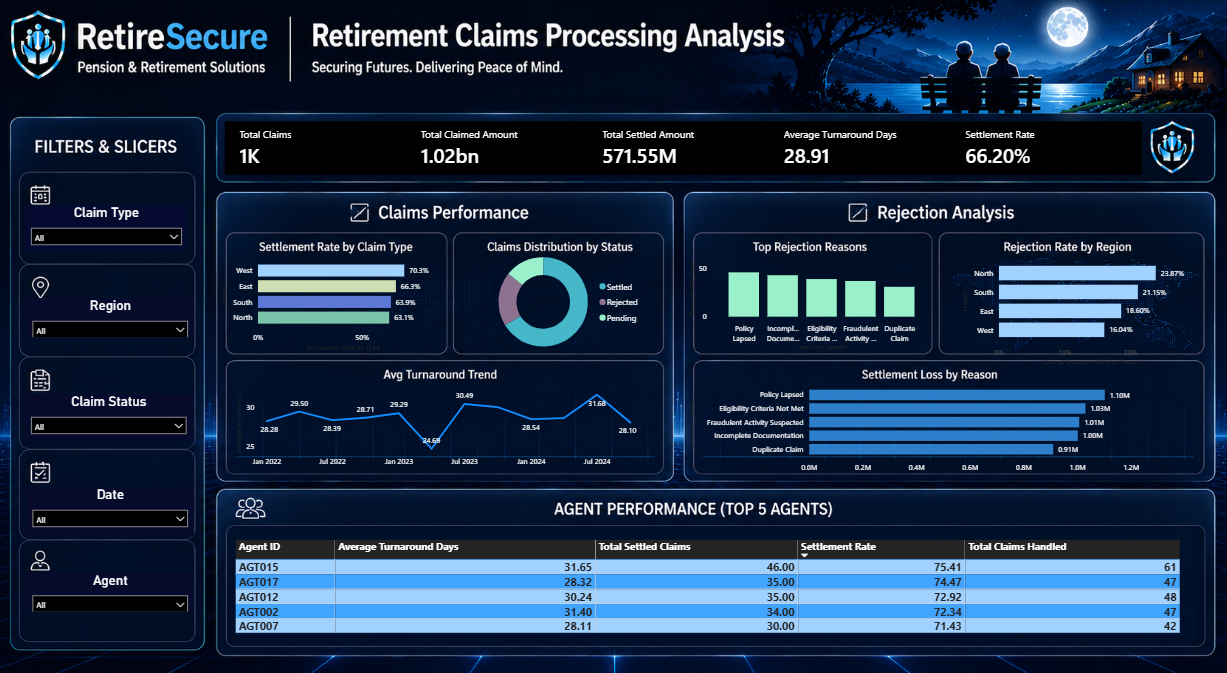

The page's visual inventory and layout, read from the dashboard file:
{"tool":"powerbi","page":{"name":"Page 1","canvas":[2000,1100],"ordinal":0},"visuals":[{"type":"donutChart","fields":{"Category":["retirement_claims.claim_status"],"Y":["CountNonNull(retirement_claims.claim_status)"]},"box":[792,384,264,216],"z":0},{"type":"columnChart","fields":{"Category":["v__rejection_reasons.rejection_reason"],"Y":["Sum(v__rejection_reasons.total_count)"]},"box":[1117.8,408.3,403.4,167.7],"z":1000},{"type":"barChart","fields":{"Category":["v_rejection_rate_per_region.region"],"Y":["Sum(v_rejection_rate_per_region.Rejection Rate by Region)"]},"box":[1560,408,384,192],"z":2000},{"type":"clusteredBarChart","fields":{"Category":["retirement_claims.region"],"Y":["retirement_claims.Settlement Rate by Type"]},"box":[360,408,360,168],"z":3000},{"type":"lineChart","fields":{"Y":["Avg(retirement_claims.turnaround_days)"],"Category":["retirement_claims.claim_date.Variation.Date Hierarchy.Year","retirement_claims.claim_date.Variation.Date Hierarchy.Quarter"]},"box":[384,624,672,144],"z":4000},{"type":"barChart","fields":{"Category":["v_settlement_loss_by_rejection_reason.rejection_reason"],"Y":["Sum(v_settlement_loss_by_rejection_reason.avg_loss_per_claim)"]},"box":[1117.8,612.4,741.2,165.2],"z":5000},{"type":"slicer","title":"Claim Type","fields":{"Values":["retirement_claims.claim_type"]},"box":[48,336,264,72],"z":6000},{"type":"slicer","title":"Region","fields":{"Values":["retirement_claims.region"]},"box":[50,486.5,271.6,63.5],"z":7000},{"type":"slicer","title":"Claim Status","fields":{"Values":["retirement_claims.claim_status"]},"box":[48.6,641.9,271.6,75.7],"z":8000},{"type":"slicer","title":"Date","fields":{"Values":["retirement_claims.claim_date"]},"box":[50,791.9,271.6,79.7],"z":9000},{"type":"slicer","title":"Agent","fields":{"Values":["retirement_claims.agent_id"]},"box":[51.4,929.7,271.6,63.5],"z":10000},{"type":"tableEx","fields":{"Values":["v_top_5_agents.agent_id","Sum(v_top_5_agents.avg_turnaround)","Sum(v_top_5_agents.settled_claims)","Sum(v_top_5_agents.settlement_rate)","Sum(v_top_5_agents.total_claims)"]},"box":[384,872.4,1543.1,177.4],"z":11000},{"type":"cardVisual","fields":{"Data":["Count(retirement_claims.claim_id)","Sum(retirement_claims.claim_amount)","Sum(retirement_claims.settled_amount)","Avg(retirement_claims.turnaround_days)","retirement_claims.Settlement Rate"]},"box":[366.9,194.4,1499.4,97.2],"z":12000}]}

Visuals, with their boxes in screenshot pixels (x1, y1, x2, y2), scaled from the page's 2000x1100 canvas onto the 1227x673 screenshot:
donutChart - retirement_claims.claim_status x CountNonNull(retirement_claims.claim_status): detection(486, 235, 648, 367)
columnChart - v__rejection_reasons.rejection_reason x Sum(v__rejection_reasons.total_count): detection(686, 250, 933, 352)
barChart - v_rejection_rate_per_region.region x Sum(v_rejection_rate_per_region.Rejection Rate by Region): detection(957, 250, 1193, 367)
clusteredBarChart - retirement_claims.region x retirement_claims.Settlement Rate by Type: detection(221, 250, 442, 352)
lineChart - Avg(retirement_claims.turnaround_days) x retirement_claims.claim_date.Variation.Date Hierarchy.Year: detection(236, 382, 648, 470)
barChart - v_settlement_loss_by_rejection_reason.rejection_reason x Sum(v_settlement_loss_by_rejection_reason.avg_loss_per_claim): detection(686, 375, 1140, 476)
"Claim Type" slicer: detection(29, 206, 191, 250)
"Region" slicer: detection(31, 298, 197, 336)
"Claim Status" slicer: detection(30, 393, 196, 439)
"Date" slicer: detection(31, 484, 197, 533)
"Agent" slicer: detection(32, 569, 198, 608)
tableEx - v_top_5_agents.agent_id x Sum(v_top_5_agents.avg_turnaround): detection(236, 534, 1182, 642)
cardVisual - Count(retirement_claims.claim_id) x Sum(retirement_claims.claim_amount): detection(225, 119, 1145, 178)
